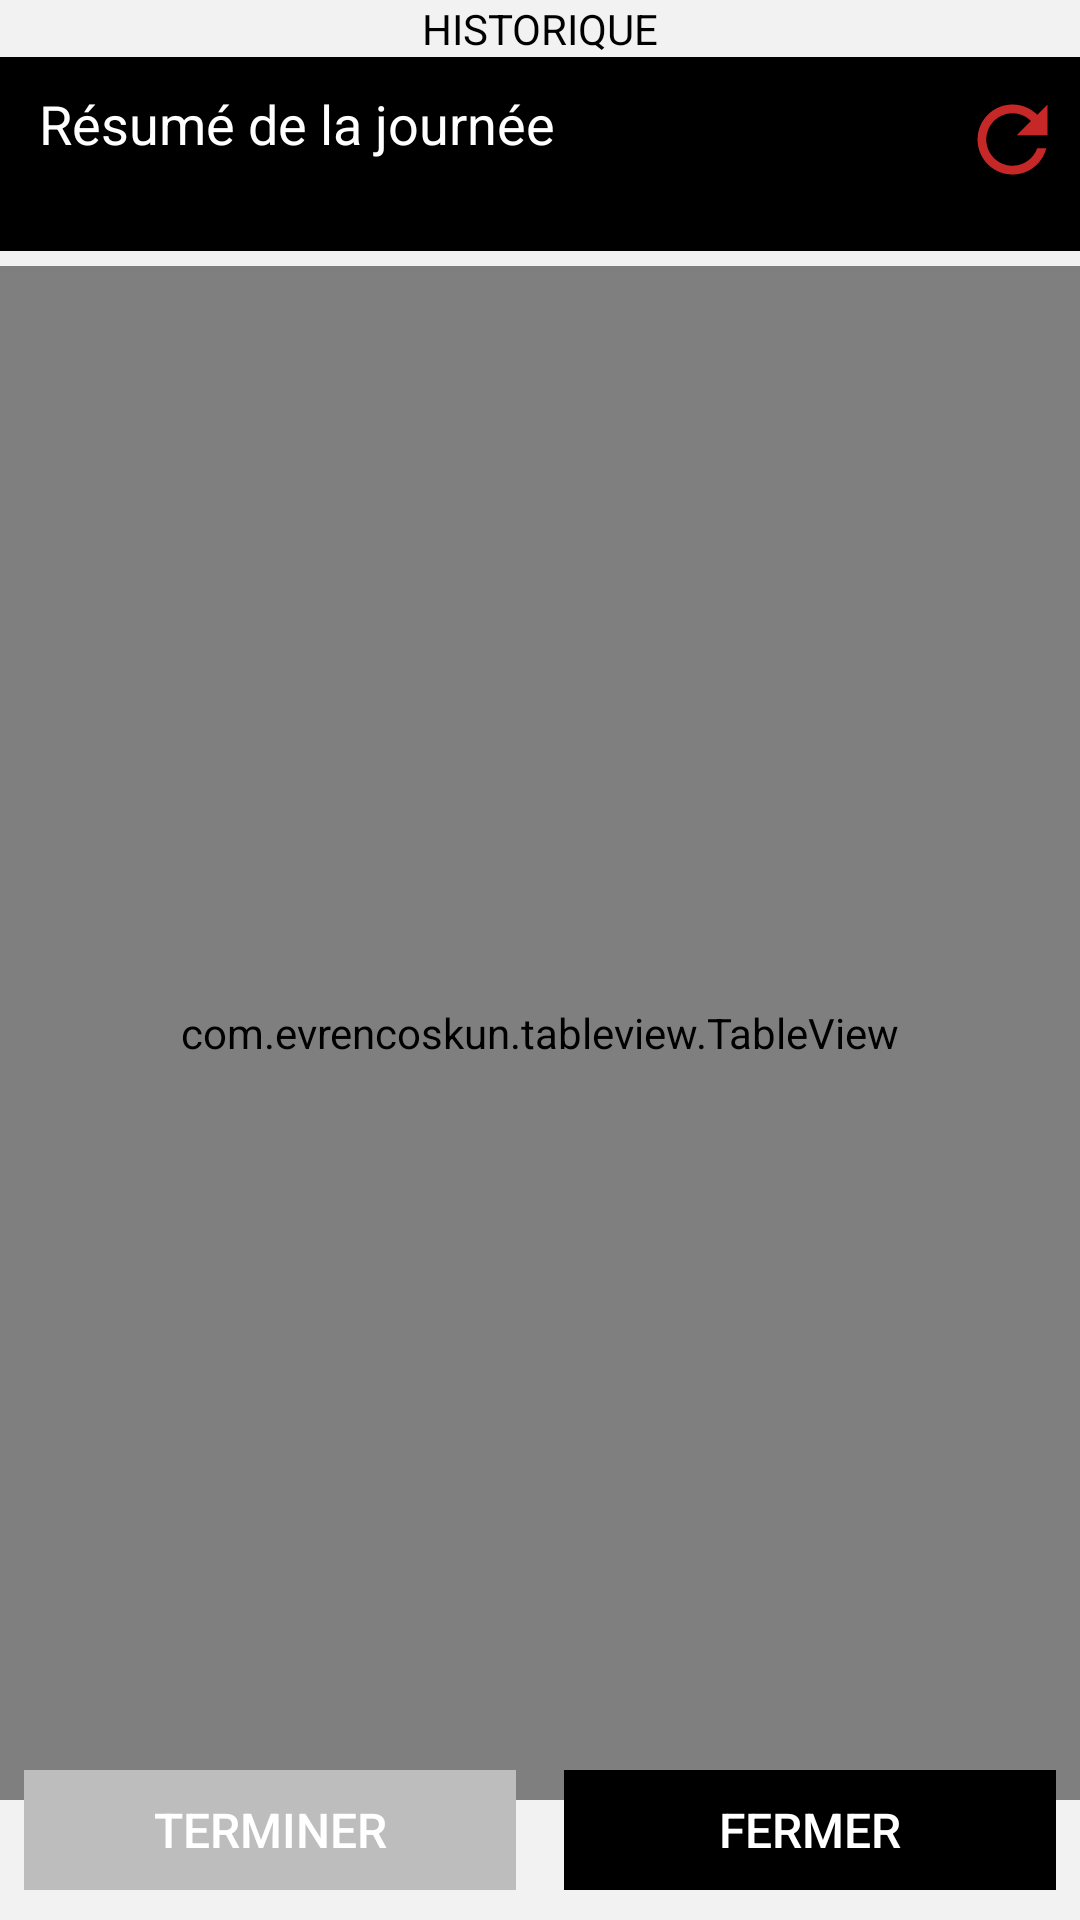

Locate icon controls on the screen. Image size 1080x1920, boxes as [x1,y1,x2,y2].
refresh: [977,104,1048,175]
